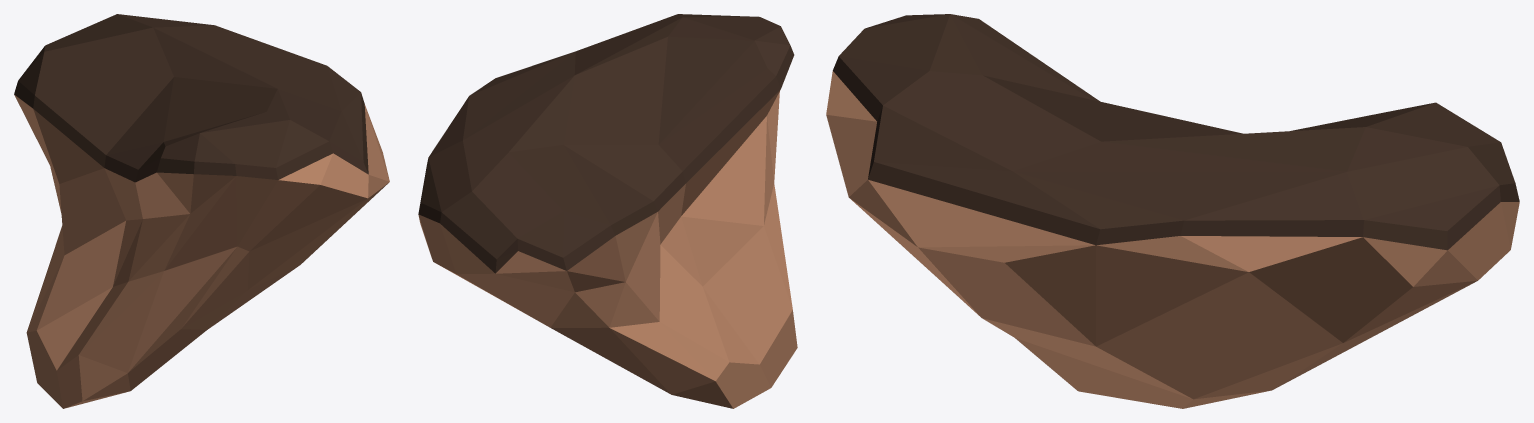
The model's file is Mushroom 4_1.fbx.
3 renders of one model, left to right at view 1: azimuth 30°, elevation 25°; view 2: azimuth 150°, elevation 25°; view 3: azimuth 270°, elevation 25°, orthographic. The views are drawn at different scales.
Visible parts, largest first — view 1: Mushroom 4_1; view 2: Mushroom 4_1; view 3: Mushroom 4_1.
Part boxes in pixels (x1,y1,x2,y2): Mushroom 4_1: (14, 14, 389, 408); Mushroom 4_1: (418, 14, 797, 408); Mushroom 4_1: (826, 14, 1519, 408).
Size of the model in its own units: 0.2868 by 0.2755 by 0.4209.
